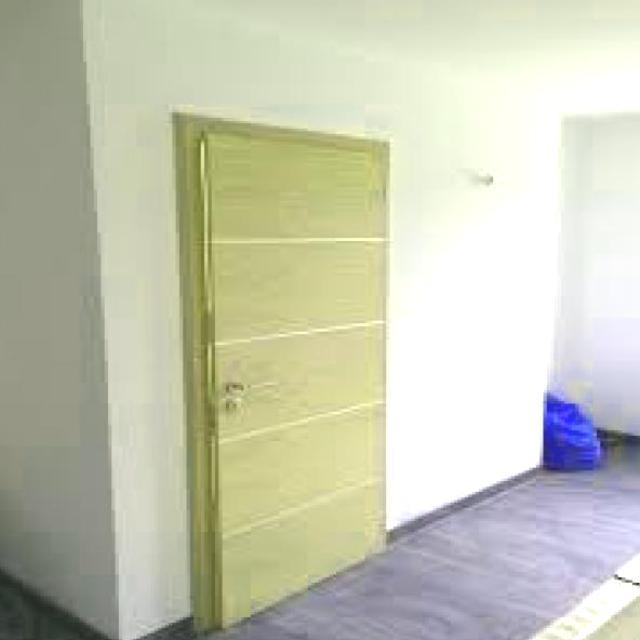door: (183, 114, 391, 631)
